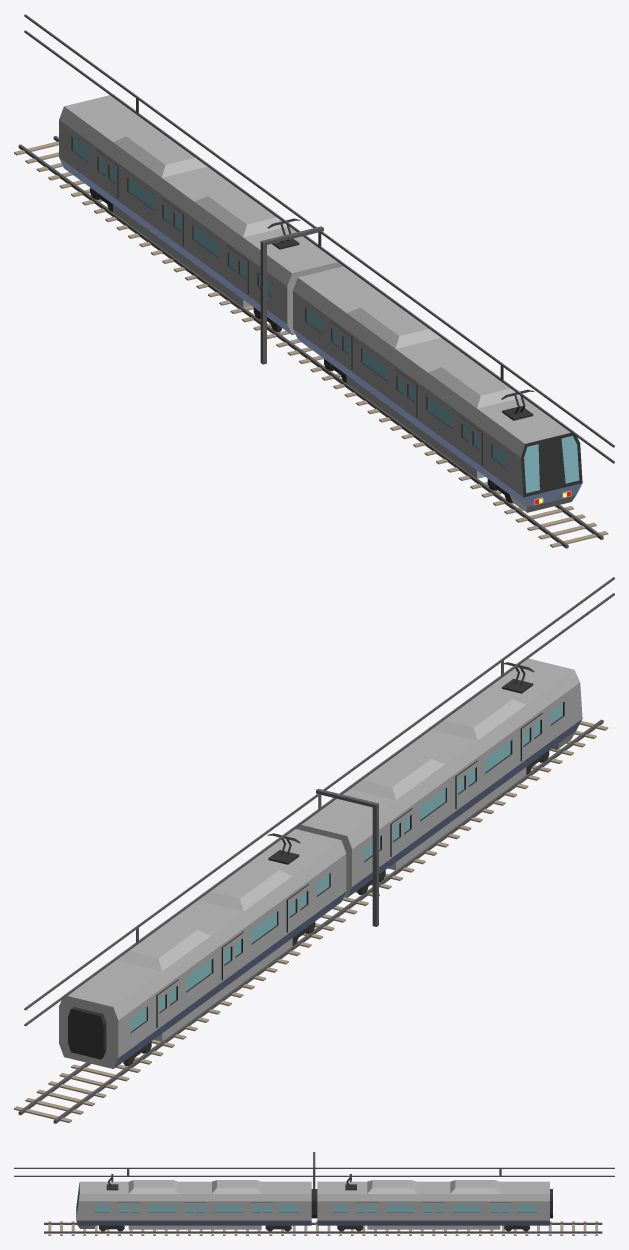
3 renders of one model, top to bottom at view 1: azimuth 30°, elevation 25°; view 2: azimuth 150°, elevation 25°; view 3: azimuth 270°, elevation 25°, orthographic. The views are drawn at different scales.
Parts seen in each view (by area): view 1: Coach1, Coach2, Rail, Cable; view 2: Coach2, Coach1, Rail, Cable; view 3: Coach1, Coach2, Rail, Cable.
Boxes of the visible parts, left/top/right/bottom form: Coach1: left=293, top=266, right=582, bottom=512; Coach2: left=59, top=95, right=343, bottom=335; Rail: left=14, top=136, right=608, bottom=548; Cable: left=24, top=14, right=614, bottom=463; Coach2: left=59, top=829, right=346, bottom=1068; Coach1: left=296, top=658, right=582, bottom=897; Rail: left=14, top=719, right=608, bottom=1123; Cable: left=24, top=577, right=614, bottom=1026; Coach1: left=76, top=1174, right=314, bottom=1231; Coach2: left=314, top=1174, right=552, bottom=1231; Rail: left=44, top=1221, right=602, bottom=1235; Cable: left=14, top=1152, right=614, bottom=1188.
Bounding box in the file's own units: 9 × 11.86 × 103.
